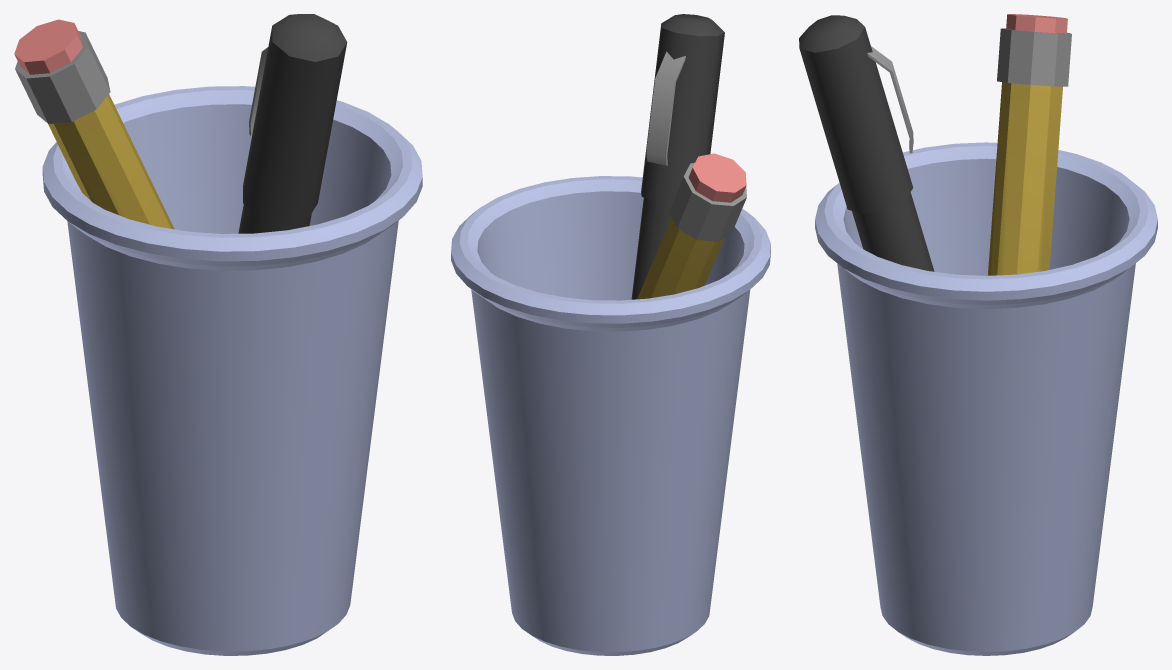
File: pen and pencil.fbx
The picture shows the model from 3 angles, left to right: view 1: azimuth 30°, elevation 25°; view 2: azimuth 150°, elevation 25°; view 3: azimuth 270°, elevation 25°; orthographic projection. The views are drawn at different scales.
Visible parts, largest first — view 1: Cylinder, Cylinder.002, Cylinder.001; view 2: Cylinder, Cylinder.002, Cylinder.001; view 3: Cylinder, Cylinder.002, Cylinder.001.
Part boxes in pixels (x1,y1,x2,y2): Cylinder: [42, 86, 422, 655]; Cylinder.002: [238, 14, 347, 233]; Cylinder.001: [14, 19, 174, 229]; Cylinder: [451, 176, 770, 655]; Cylinder.002: [631, 14, 724, 299]; Cylinder.001: [637, 153, 746, 299]; Cylinder: [815, 142, 1157, 655]; Cylinder.002: [799, 15, 934, 271]; Cylinder.001: [988, 14, 1071, 275].
Size of the model in its own units: 346 by 620 by 342.
